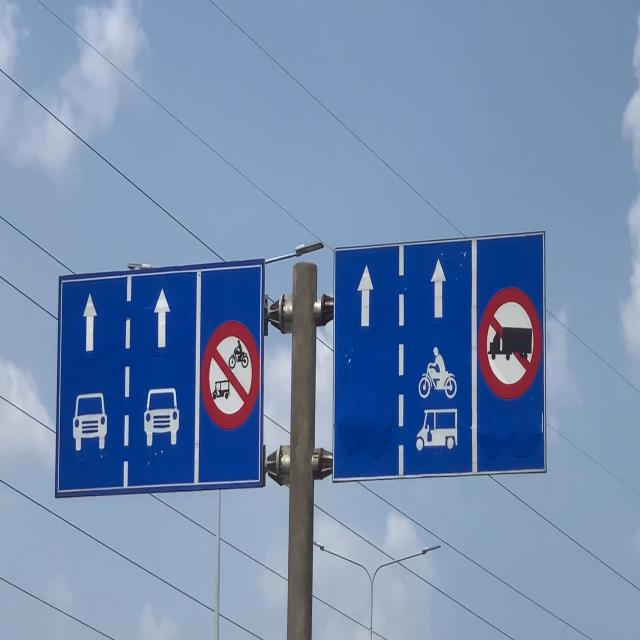Cam con lai: (477, 286, 543, 400), (199, 319, 262, 429)
